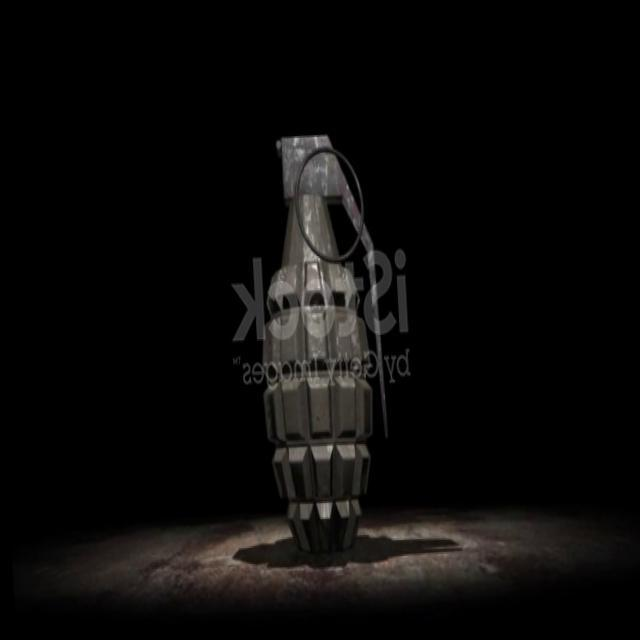grenade: (249, 126, 396, 555)
